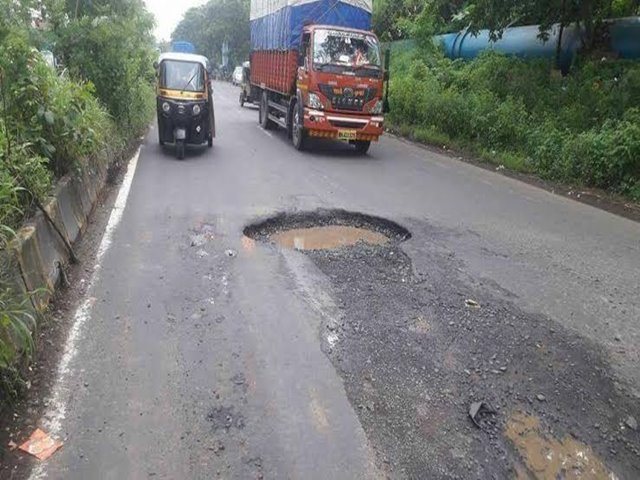pothole: (468, 394, 616, 479), (238, 194, 410, 264)
